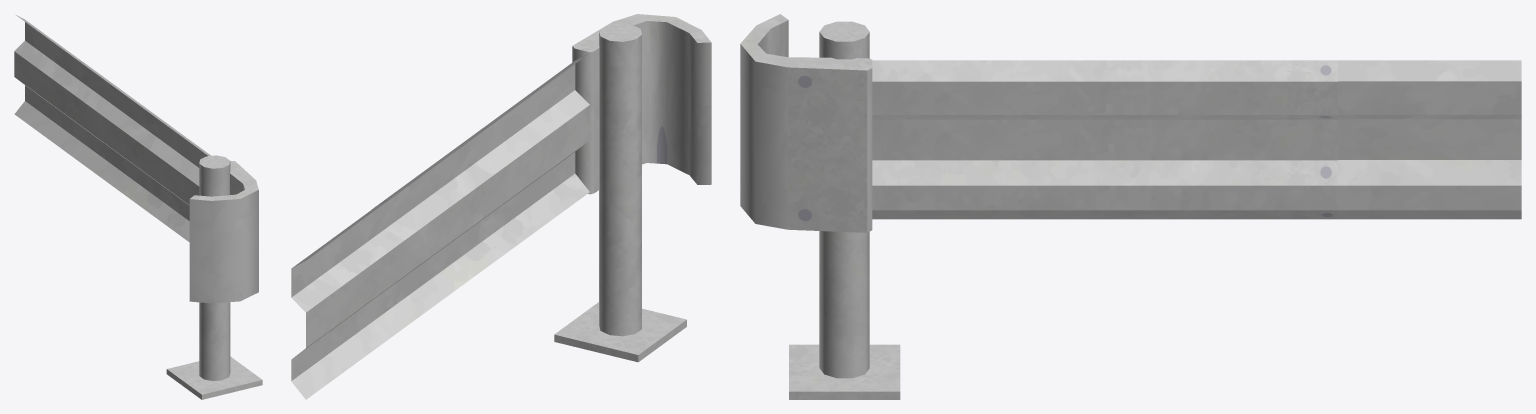
The model's file is HighwaySimpleWall.fbx.
3 views of the same model, side by side, from view 1: azimuth 30°, elevation 25°; view 2: azimuth 150°, elevation 25°; view 3: azimuth 270°, elevation 25° (orthographic). The views are drawn at different scales.
Visible parts, largest first — view 1: HighwayWall_Center, HighwayWall_Corner, BaseSupport; view 2: HighwayWall_Center, BaseSupport, HighwayWall_Corner; view 3: HighwayWall_Corner, HighwayWall_Center, BaseSupport.
Part boxes in pixels (box(x1,y1,x2,y2)): HighwayWall_Center: box(14, 14, 207, 242); HighwayWall_Corner: box(74, 57, 258, 303); BaseSupport: box(166, 155, 262, 399); HighwayWall_Center: box(291, 54, 589, 399); BaseSupport: box(554, 23, 686, 362); HighwayWall_Corner: box(371, 14, 711, 209); HighwayWall_Corner: box(740, 14, 1337, 232); HighwayWall_Center: box(872, 60, 1521, 219); BaseSupport: box(789, 21, 900, 399).
Bounding box in the file's own units: 284 × 778 × 1599.
